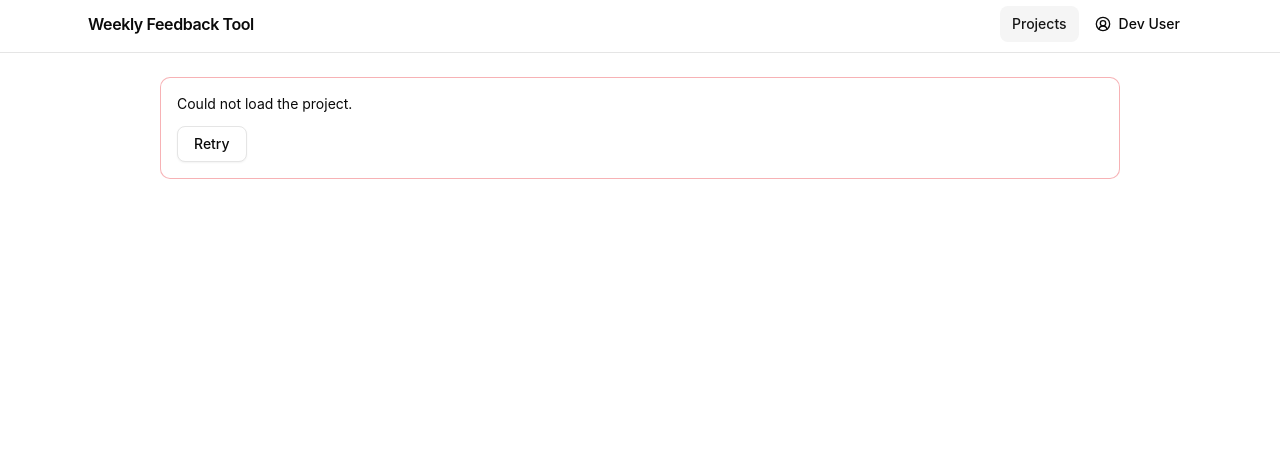
Test: ProjectPage › shows an alert and retries after a project query failure
Check: the message shows "Could not load the project.", box 177,95 -> 352,112
Check: the message does not show "permission denied", box 160,77 -> 1120,179
Click the button "Retry" at (212, 144), box 177,126 -> 247,162
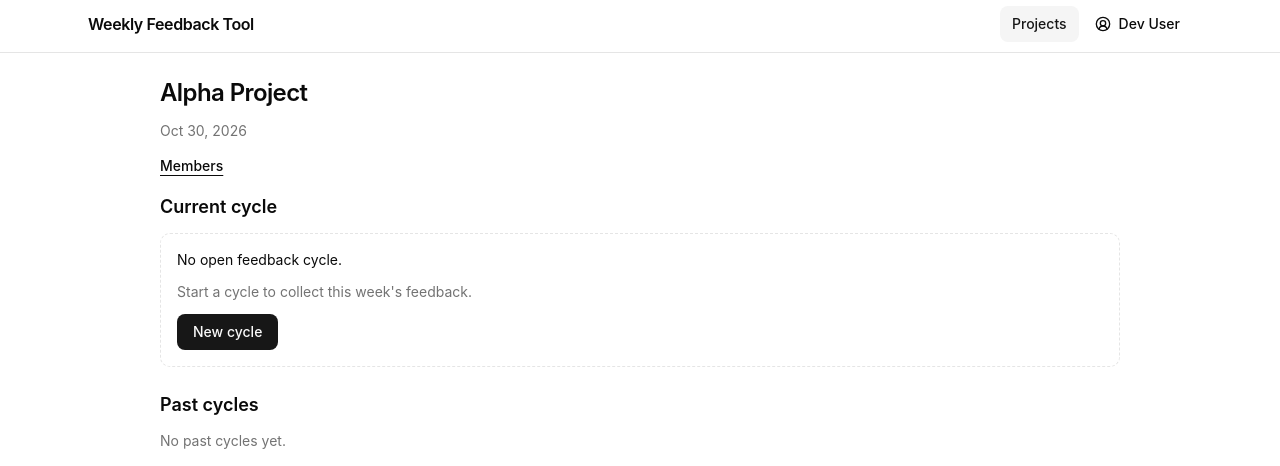
Check: the heading "Alpha Project" is shown, box 160,78 -> 308,107
Check: the message "Could not load the project. Retry" is gone
